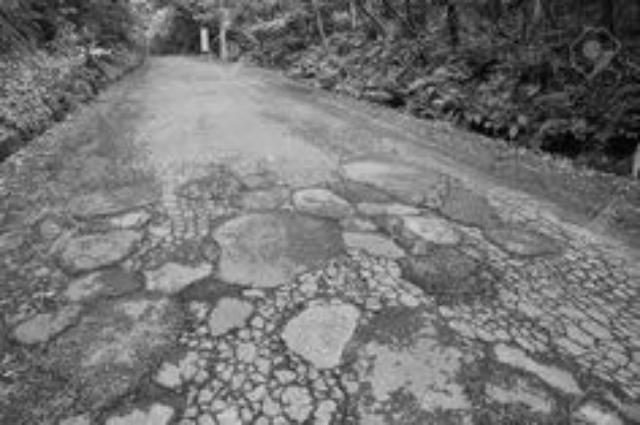Pothole: (16, 290, 211, 425), (438, 336, 609, 425), (380, 240, 512, 318)
